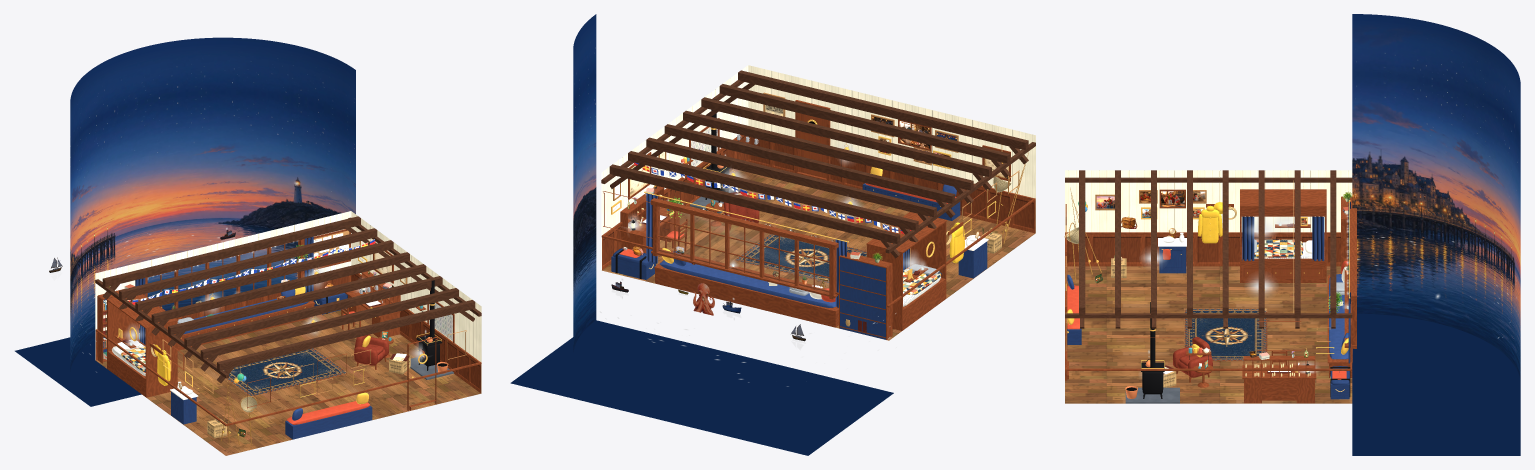
The model's file is rexs_cabin.glb.
3 renders of one model, left to right at view 1: azimuth 30°, elevation 25°; view 2: azimuth 150°, elevation 25°; view 3: azimuth 270°, elevation 25°, orthographic. The views are drawn at different scales.
Visible parts, largest first — view 1: View_harbour, beam, floor, mahogany, wall, View_deep, rug, wainscot, mahogany_1s, navy_wood, leather, iron (+6 smaller); view 2: beam, View_deep, mahogany, wall, floor, View_harbour, wainscot, navy_wood, mahogany_1s, rug, linen_navy, Bunting (+6 smaller); view 3: View_harbour, floor, View_deep, beam, wall, mahogany, wainscot, rug, mahogany_1s, curtain, pictures, iron (+10 smaller).
Boxes of the visible parts, <box> form: View_harbour: <box>70,37,355,371</box>; beam: <box>95,216,481,383</box>; floor: <box>96,308,480,455</box>; mahogany: <box>97,239,426,397</box>; wall: <box>95,211,481,392</box>; View_deep: <box>15,337,141,406</box>; rug: <box>213,348,347,396</box>; wainscot: <box>95,274,481,393</box>; mahogany_1s: <box>95,229,481,426</box>; navy_wood: <box>103,293,372,439</box>; leather: <box>354,334,388,365</box>; iron: <box>326,280,442,370</box>; beam: <box>601,70,1035,258</box>; View_deep: <box>510,320,893,455</box>; mahogany: <box>620,159,963,339</box>; wall: <box>601,65,1035,270</box>; floor: <box>602,170,1035,340</box>; View_harbour: <box>573,14,596,351</box>; wainscot: <box>602,135,1035,270</box>; navy_wood: <box>611,183,987,339</box>; mahogany_1s: <box>601,100,1035,307</box>; rug: <box>734,234,866,283</box>; linen_navy: <box>659,184,956,307</box>; Bunting: <box>634,162,911,233</box>; View_harbour: <box>1352,14,1520,380</box>; floor: <box>1065,266,1352,403</box>; View_deep: <box>1352,313,1520,455</box>; beam: <box>1065,170,1352,328</box>; wall: <box>1065,170,1352,232</box>; mahogany: <box>1176,189,1356,403</box>; wainscot: <box>1065,234,1340,266</box>; rug: <box>1184,308,1267,360</box>; mahogany_1s: <box>1065,189,1352,380</box>; curtain: <box>1242,202,1350,363</box>; pictures: <box>1096,191,1306,224</box>; iron: <box>1141,302,1350,398</box>.
Size of what is drawn, in the model's own units: 9.27 by 8.75 by 12.08.
92 materials, 65 textured.
